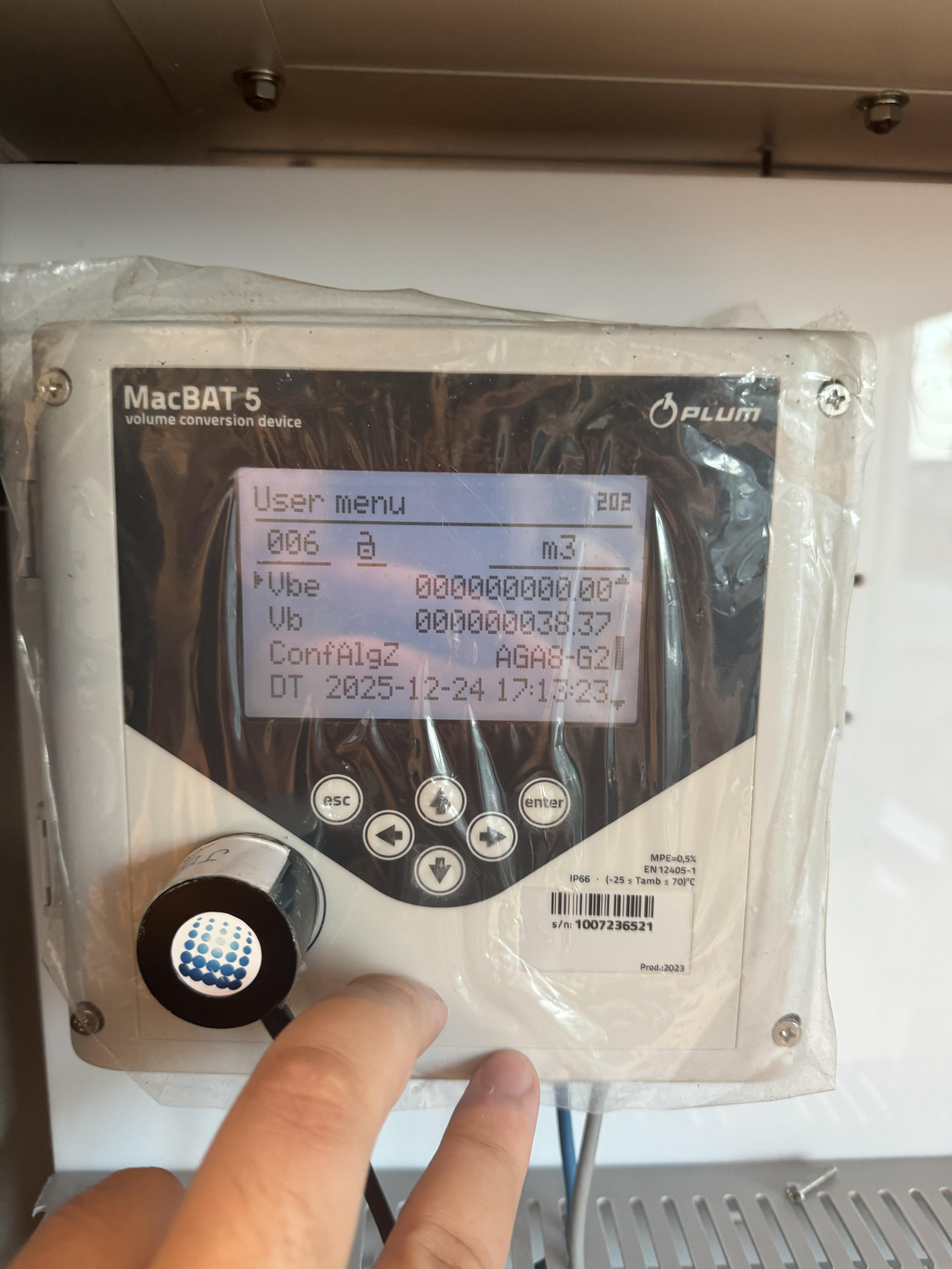digital_screen: (231, 469, 651, 726)
